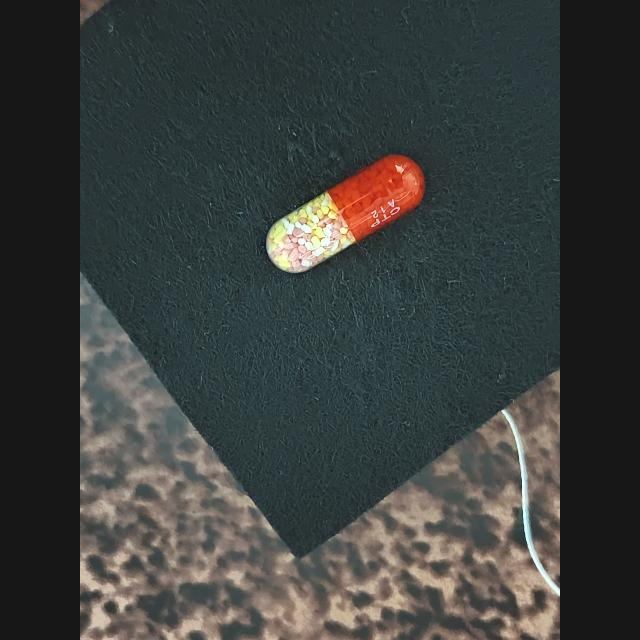Intact Capsule: (266, 155, 425, 273)
